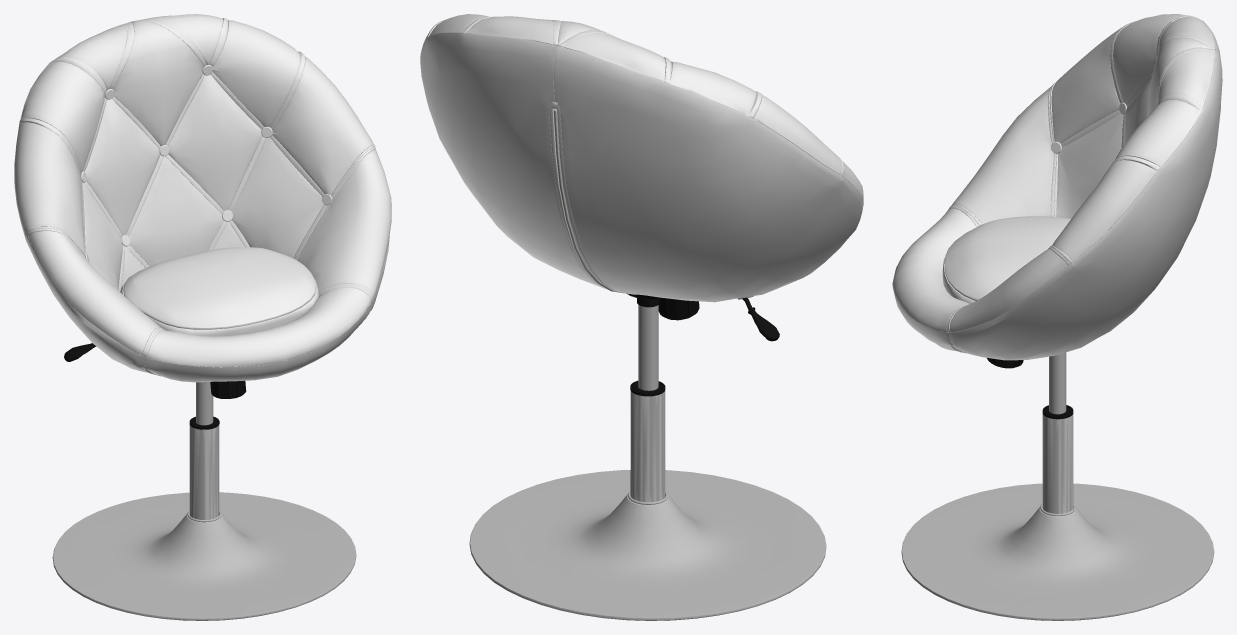
The model's file is B07DYJ43BZ.glb.
3 views of the same model, side by side, from view 1: azimuth 30°, elevation 25°; view 2: azimuth 150°, elevation 25°; view 3: azimuth 270°, elevation 25° (orthographic). The views are drawn at different scales.
Visible parts, largest first — view 1: RootNode; view 2: RootNode; view 3: RootNode.
Part boxes in pixels (x1,y1,x2,y2): RootNode: [14, 14, 391, 620]; RootNode: [420, 14, 863, 620]; RootNode: [892, 14, 1222, 620].
Bounding box in the file's own units: 0.9398 × 1.26 × 0.7362.
1 material, 1 textured.
